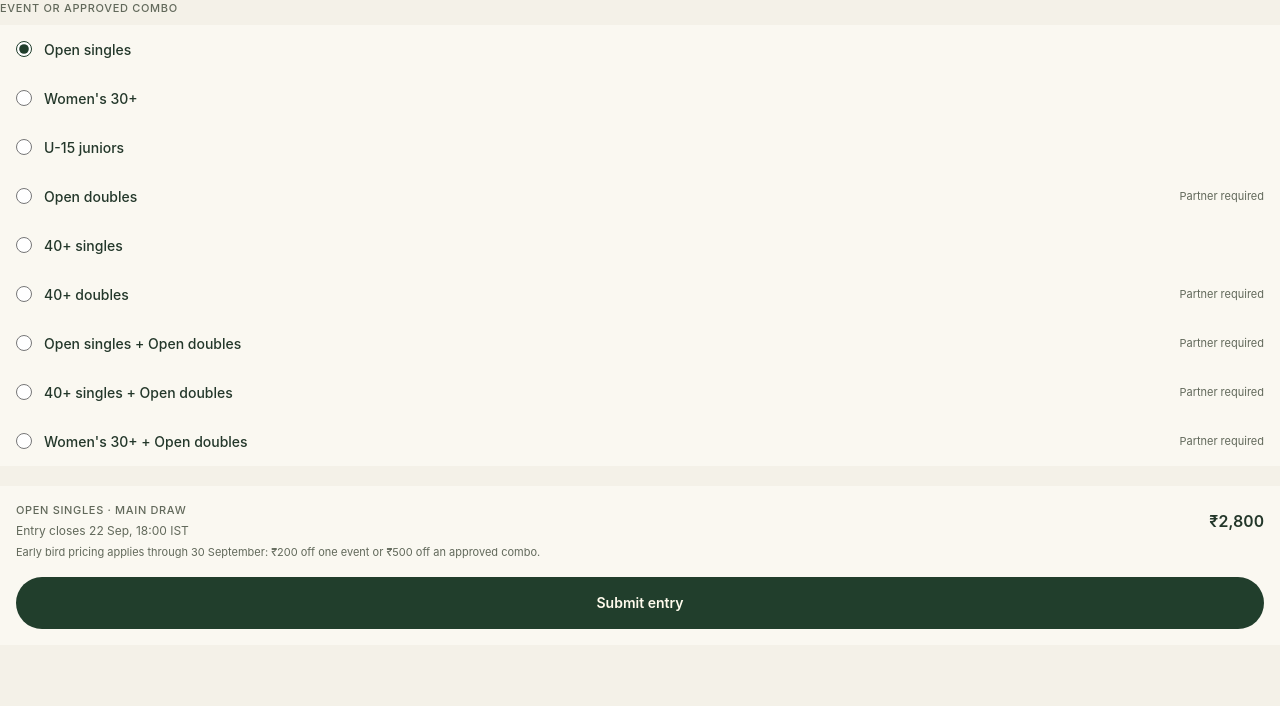
EntryForm › asks for a partner only in doubles
Check: the field labelled "Partner name" is not shown
Click the radio button labelled "Open doubles" at (24, 196), box [16,188,32,204]
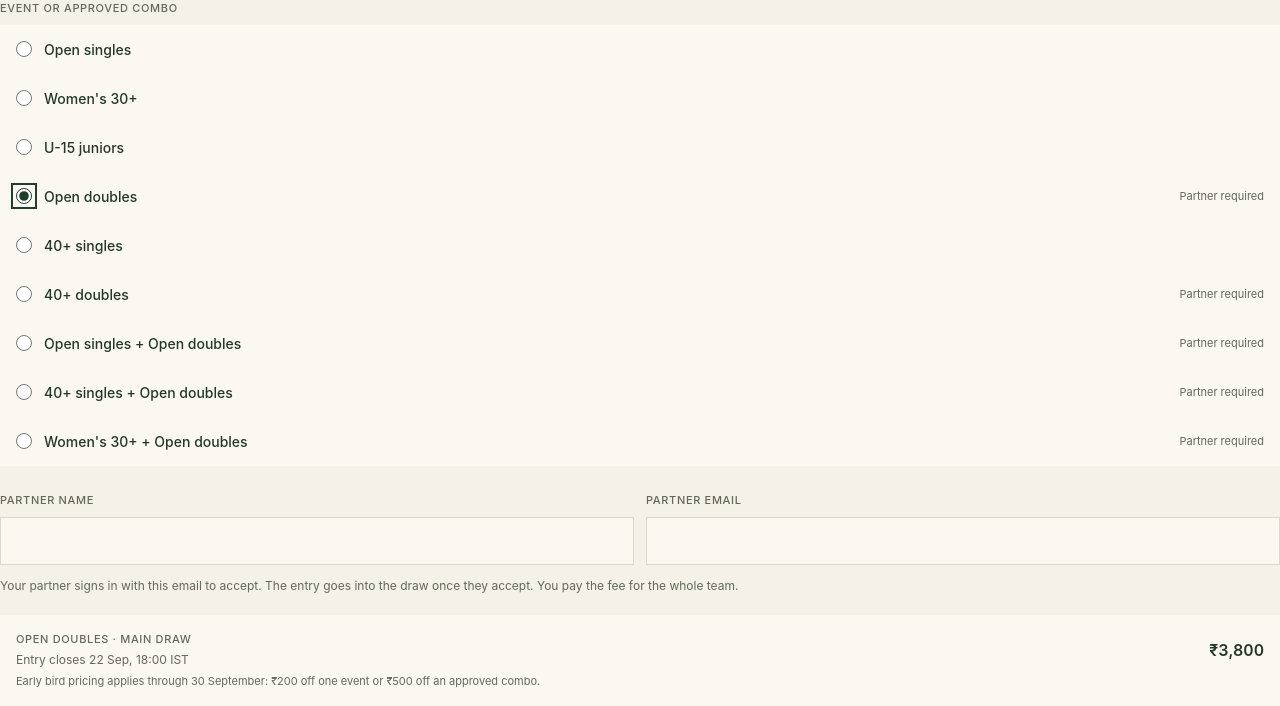
Click the radio button labelled "Women's 30+" at (24, 98), box [16,90,32,106]
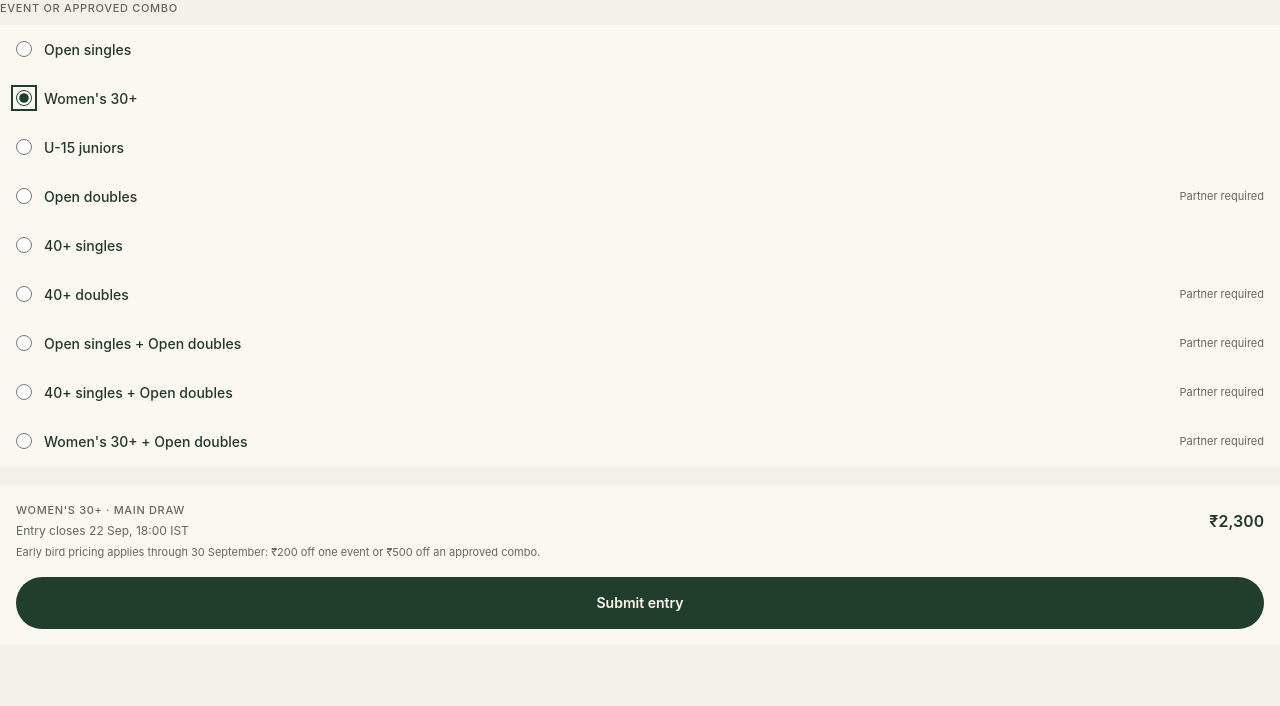
Check: the label labelled "Partner name" is gone
